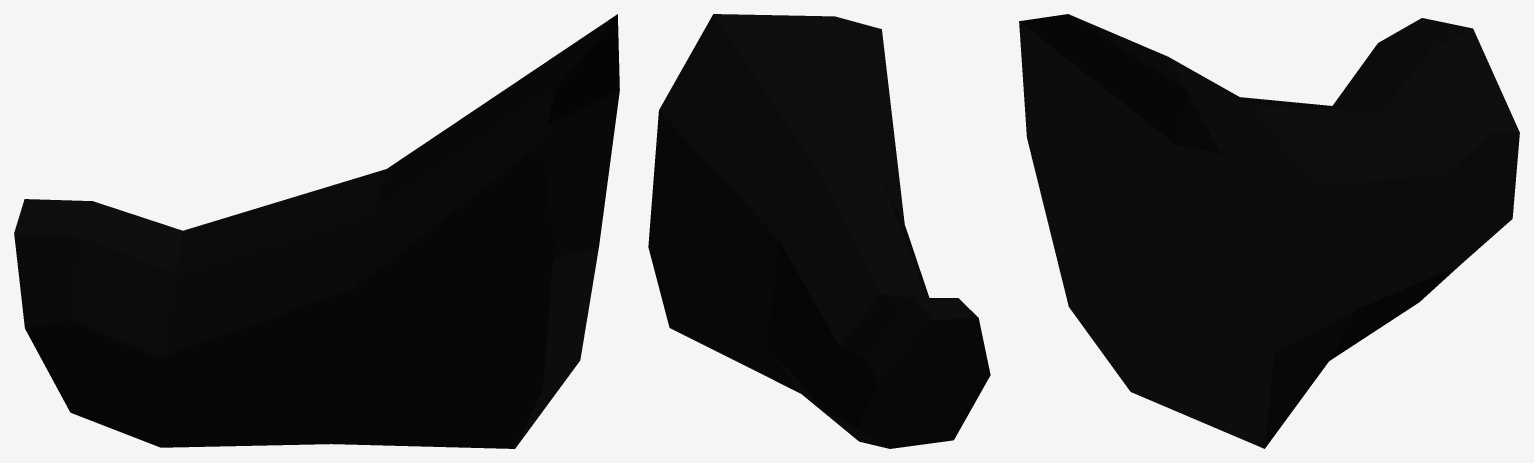
The model's file is DerDel.obj.
3 renders of one model, left to right at view 1: azimuth 30°, elevation 25°; view 2: azimuth 150°, elevation 25°; view 3: azimuth 270°, elevation 25°, orthographic. The views are drawn at different scales.
Visible parts, largest first — view 1: polySurface12 panda; view 2: polySurface12 panda; view 3: polySurface12 panda.
Boxes of the visible parts, bbox=[...] form: polySurface12 panda: bbox=[14, 14, 619, 448]; polySurface12 panda: bbox=[648, 14, 990, 448]; polySurface12 panda: bbox=[1019, 14, 1519, 448].
Size of the model in its own units: 0.67 by 0.5046 by 0.5568.
Materials: 1 (1 with a texture image).
